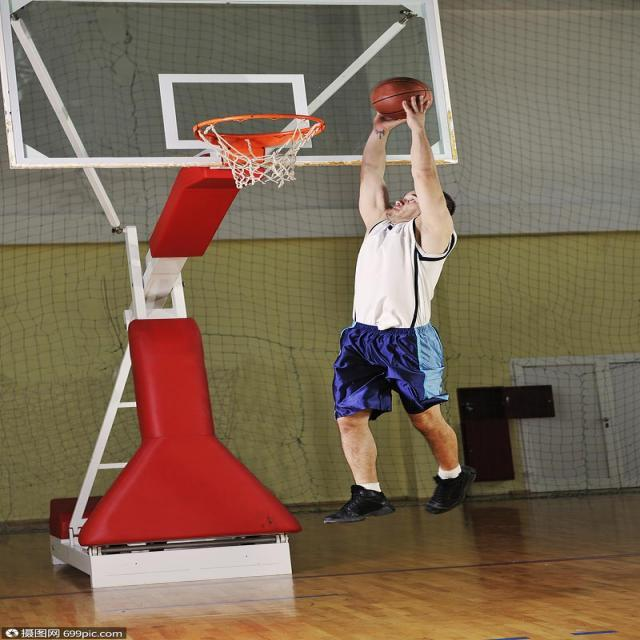rim: (370, 76, 434, 117)
